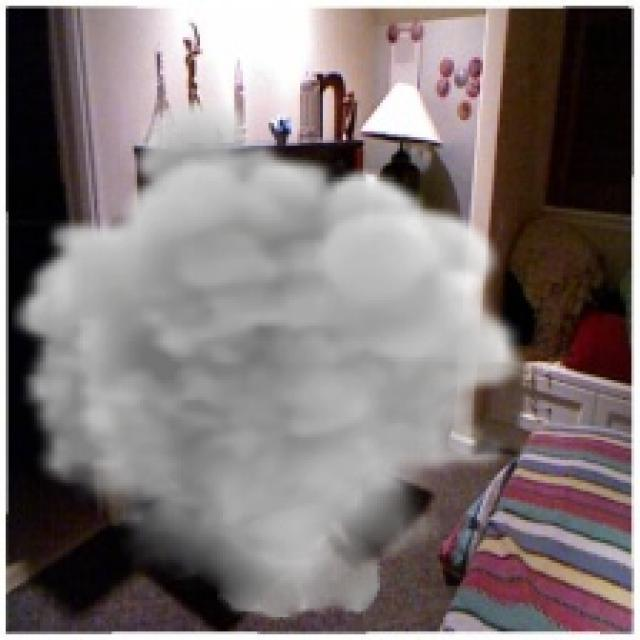smoke: (11, 91, 528, 623)
